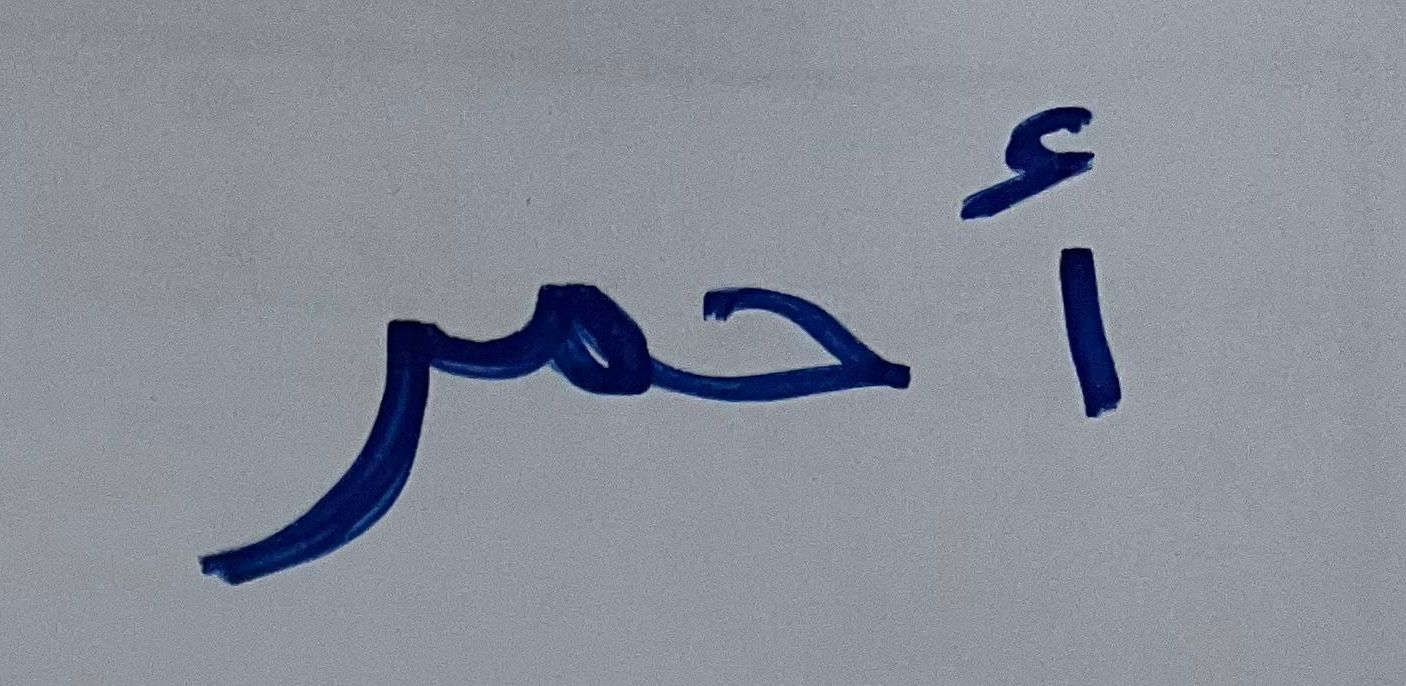hah: (658, 226, 928, 485)
hamza: (944, 44, 1175, 446)
meem: (440, 215, 655, 484)
reh: (152, 226, 435, 603)
